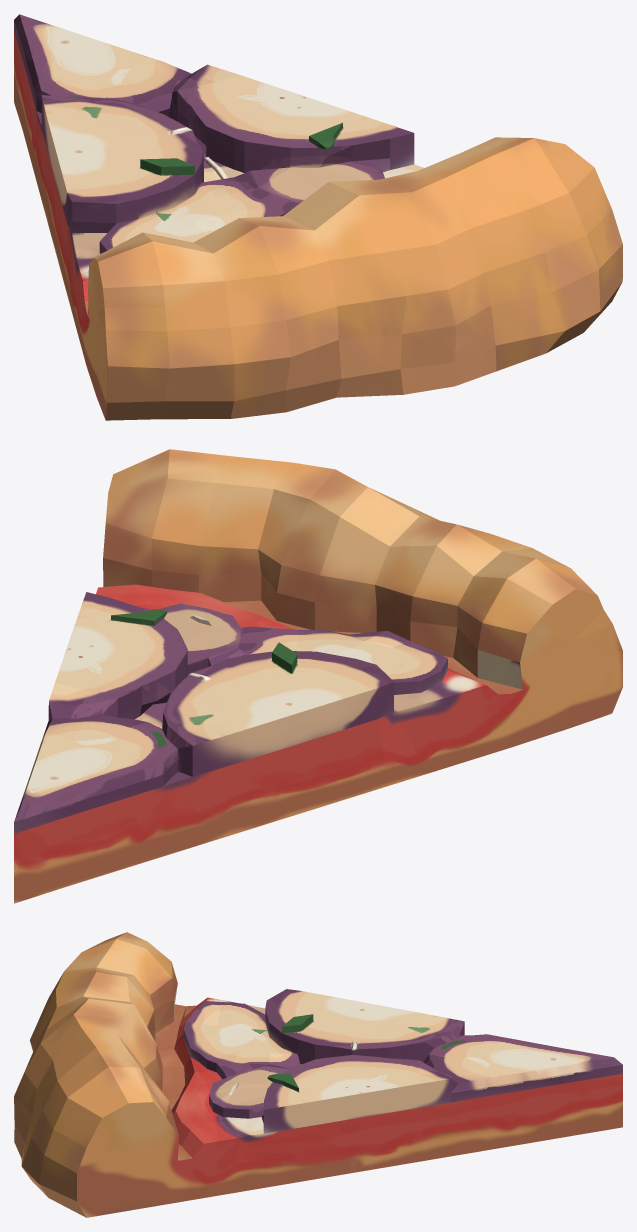
3 renders of one model, top to bottom at view 1: azimuth 30°, elevation 25°; view 2: azimuth 150°, elevation 25°; view 3: azimuth 270°, elevation 25°, orthographic. The views are drawn at different scales.
Parts seen in each view (by area): view 1: Cylinder.003; view 2: Cylinder.003; view 3: Cylinder.003.
Part boxes in pixels (x1,y1,x2,y2): Cylinder.003: [14, 14, 622, 420]; Cylinder.003: [14, 449, 622, 903]; Cylinder.003: [14, 932, 622, 1217].
Size of the model in its own units: 118 by 37.49 by 161.
Materials: 1 (1 with a texture image).
